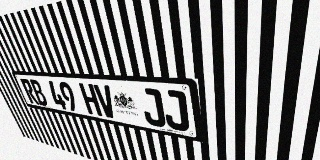4: (46, 81, 68, 110)
9: (57, 81, 80, 112)
B: (29, 79, 49, 107)
H: (78, 83, 102, 116)
J: (161, 89, 190, 132), (139, 88, 166, 128)
R: (20, 79, 40, 105)
V: (93, 84, 118, 119)
